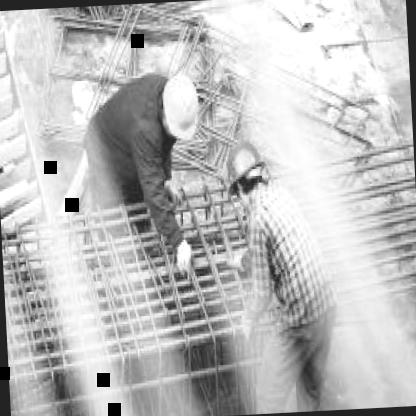helmet: (221, 136, 272, 218), (156, 67, 204, 144)
